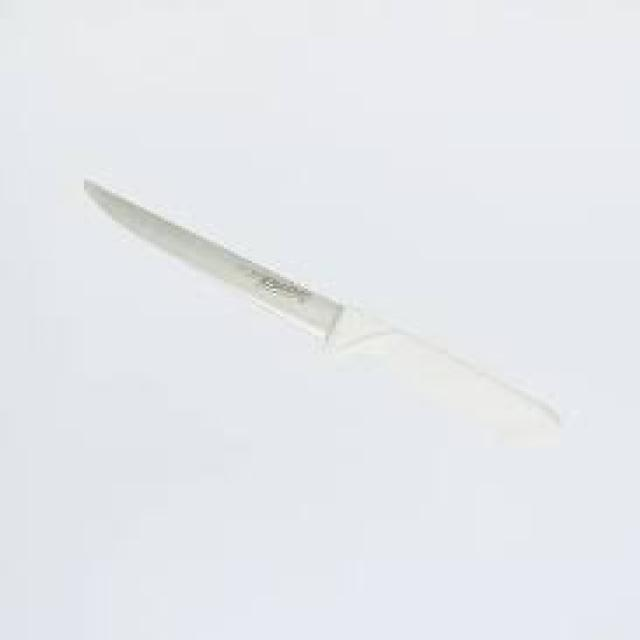Knife: (80, 177, 563, 442)
